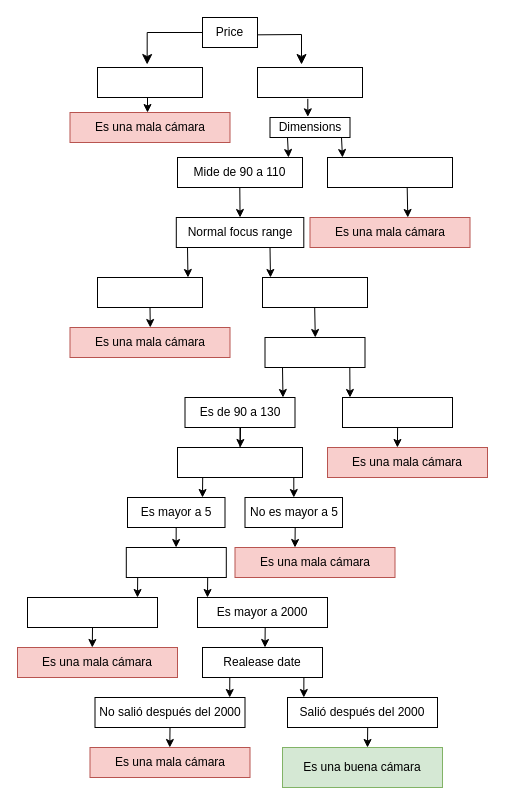
Image size: 505x805. Some labels were removed from this diagram. Each missing label, with the centre of its shape:
Arriba de los 2000: pixel 149 82
Debajo de los 2000: pixel 309 82
Effective pixels: pixel 239 462
Es menor a 20: pixel 315 292
Max resolution: pixel 175 562
No es de 90 a 130: pixel 397 412
No es mayor a 2000: pixel 92 612
No es menor a 20: pixel 149 292
No mide de 90 a 110: pixel 389 172
Zoom tele: pixel 314 352
